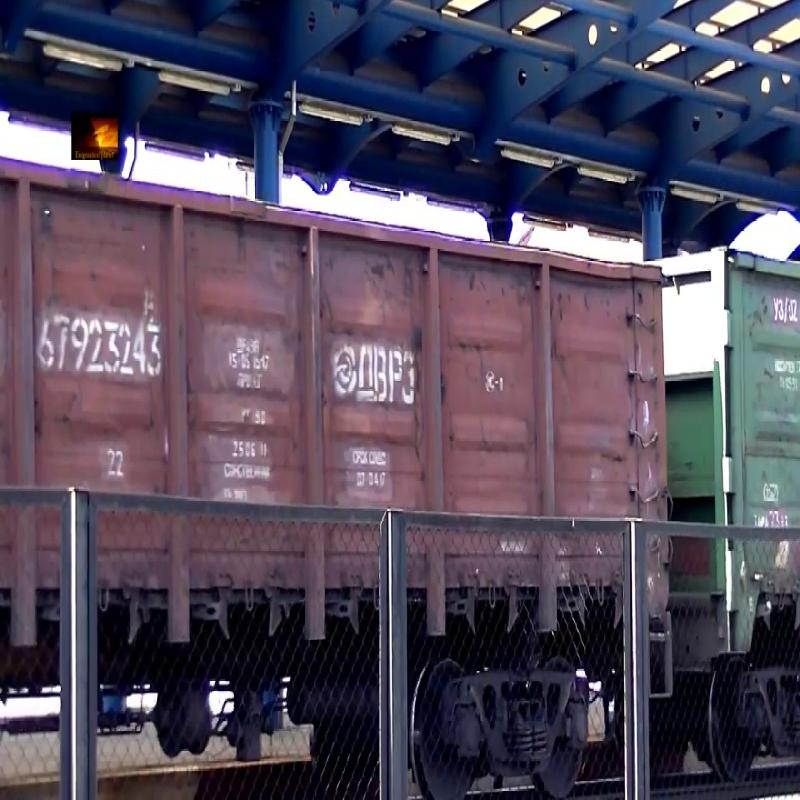train: (1, 46, 702, 765), (719, 13, 800, 758)
